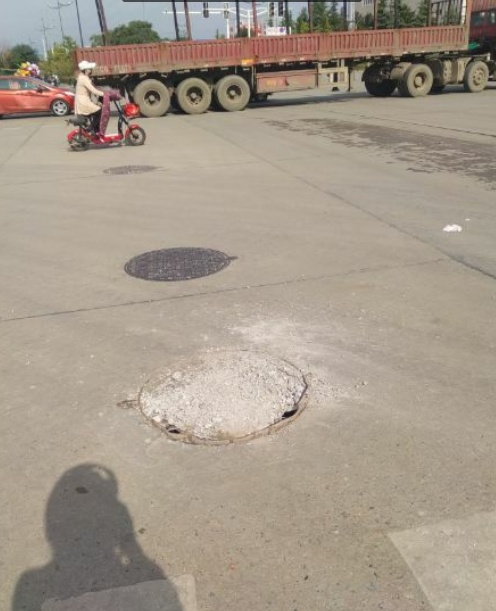broke: (120, 349, 309, 445)
good: (122, 245, 238, 284)
